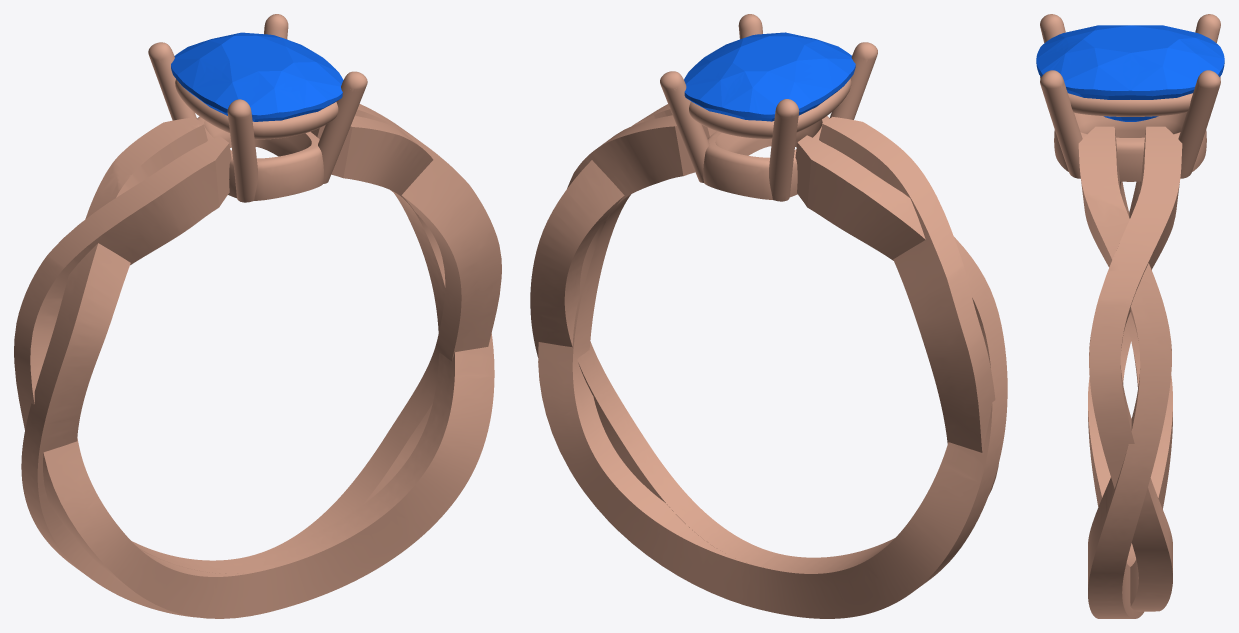
The model's file is bluesapphire-cushion-rosegold-4prong-twist-nosidestones.glb.
3 views of the same model, side by side, from view 1: azimuth 30°, elevation 25°; view 2: azimuth 150°, elevation 25°; view 3: azimuth 270°, elevation 25° (orthographic).
Parts seen in each view (by area): view 1: metal, stone; view 2: metal, stone; view 3: metal, stone.
Part boxes in pixels (bbox=[...]): metal: bbox=[14, 14, 501, 618]; stone: bbox=[171, 32, 343, 121]; metal: bbox=[530, 14, 1007, 618]; stone: bbox=[684, 32, 855, 121]; metal: bbox=[1040, 14, 1220, 618]; stone: bbox=[1036, 25, 1224, 121].
Bounding box in the file's own units: 19.97 × 23.14 × 7.15.
